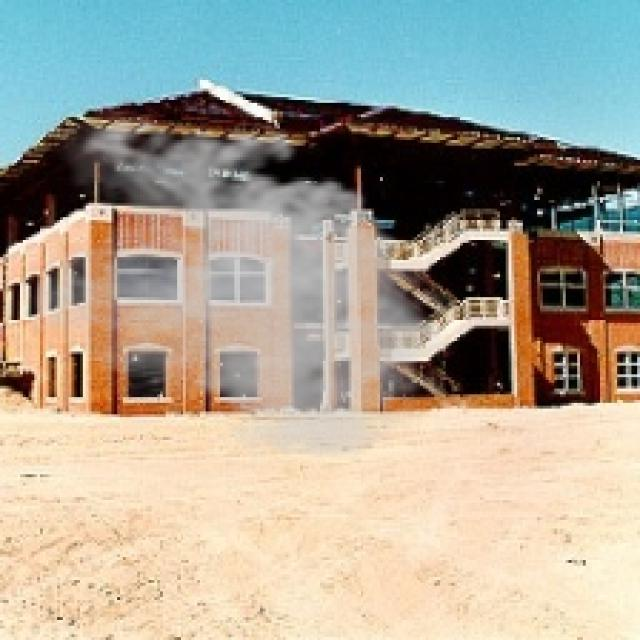smoke: (32, 106, 457, 466)
